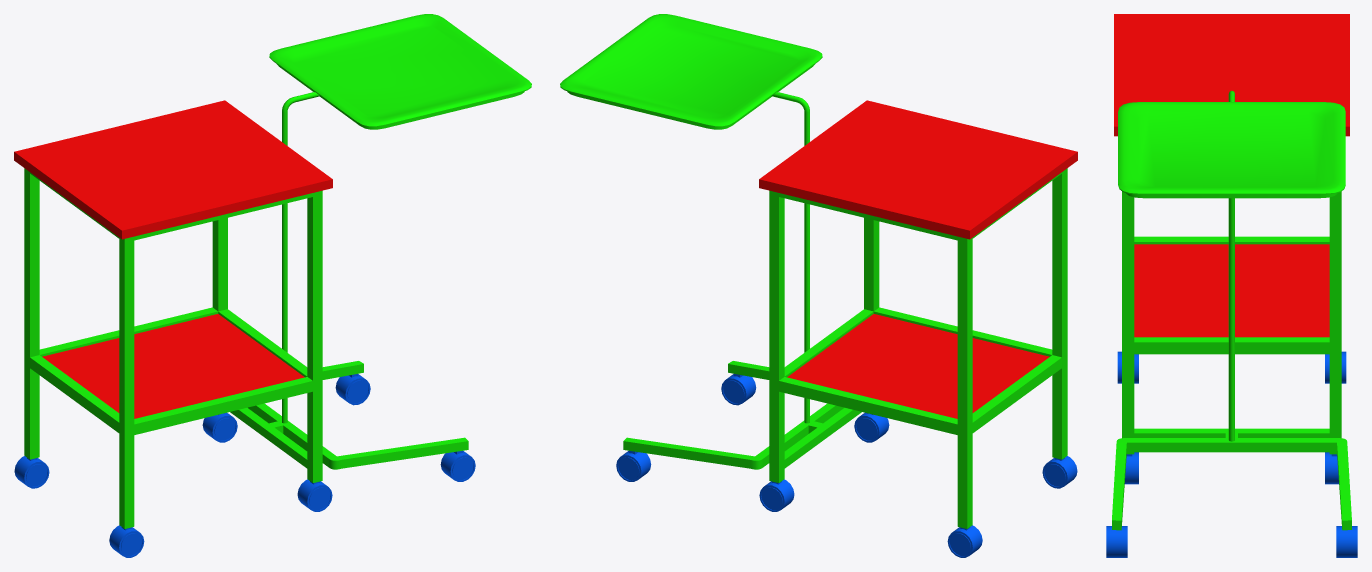
The model's file is hospital_fnt_mesita2.fbx.
3 renders of one model, left to right at view 1: azimuth 30°, elevation 25°; view 2: azimuth 150°, elevation 25°; view 3: azimuth 270°, elevation 25°, orthographic. The views are drawn at different scales.
Parts seen in each view (by area): view 1: hospital_fnt_mesita2; view 2: hospital_fnt_mesita2; view 3: hospital_fnt_mesita2.
Boxes of the visible parts, <box> form: hospital_fnt_mesita2: <box>14,14,531,557</box>; hospital_fnt_mesita2: <box>560,14,1077,557</box>; hospital_fnt_mesita2: <box>1106,14,1357,557</box>.
Size of the model in its own units: 99.47 by 84.37 by 47.14.
